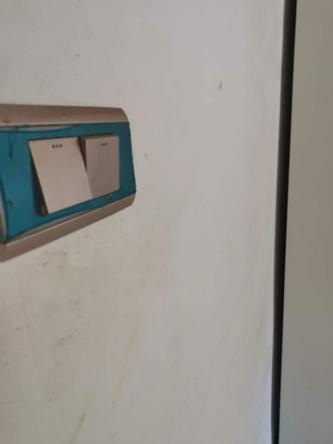switch: (24, 131, 90, 214), (79, 128, 127, 198)
